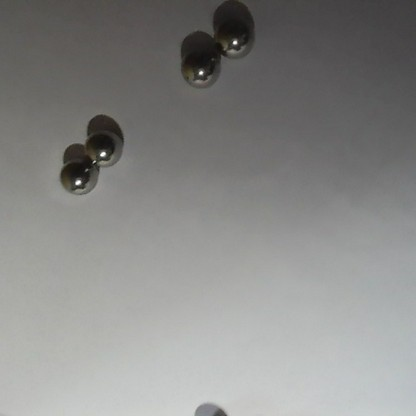ironball: (177, 46, 223, 91), (214, 14, 260, 57), (55, 157, 99, 197), (84, 127, 126, 166)
